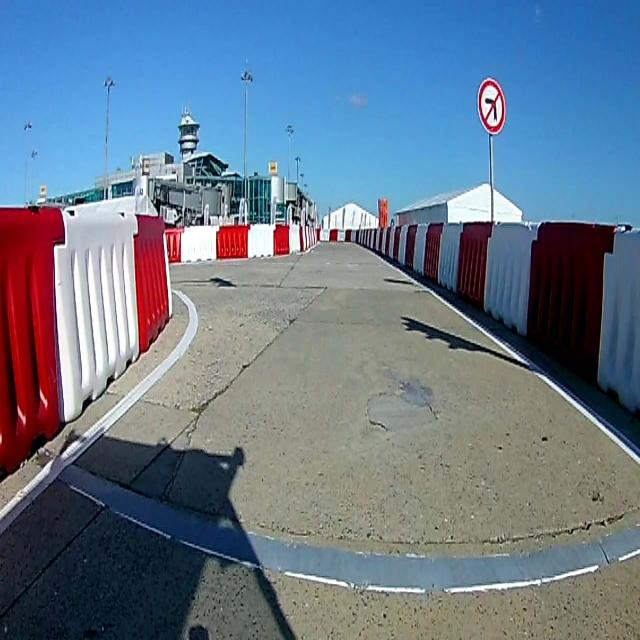soladonulmez: (476, 76, 506, 137)
